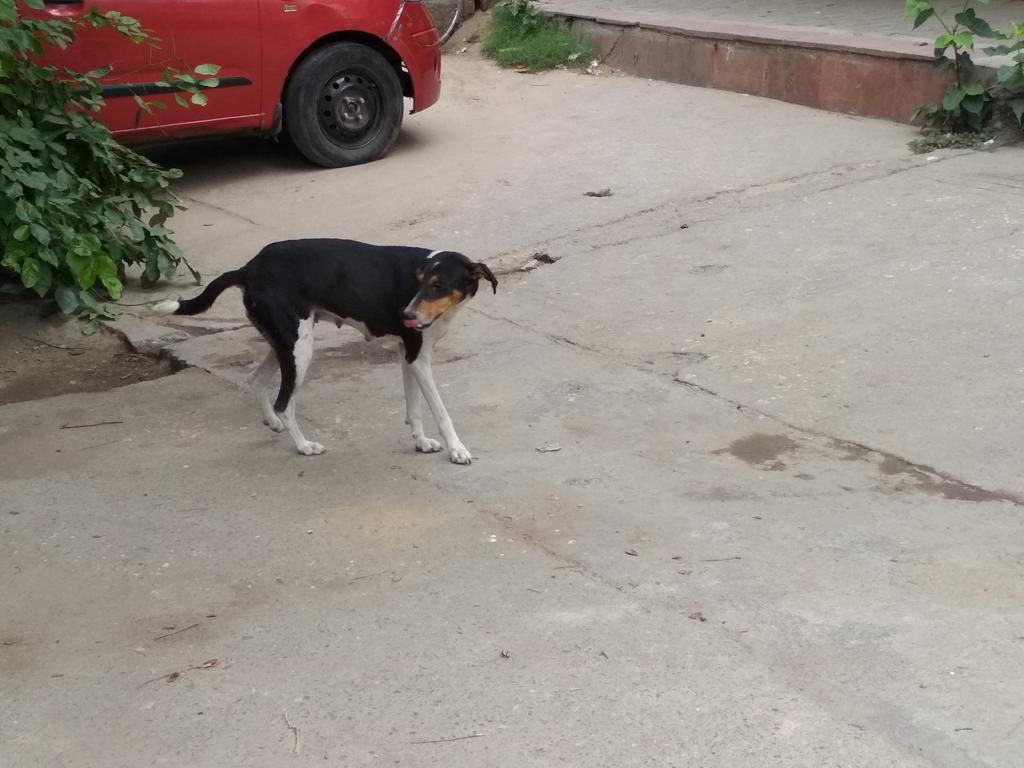dog: (153, 238, 499, 464)
